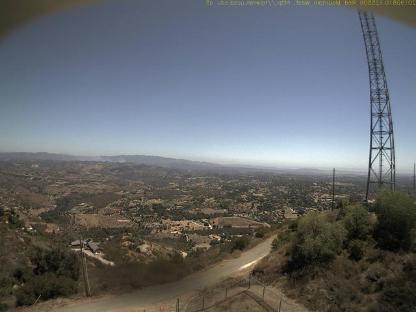smoke: (47, 151, 130, 163)
